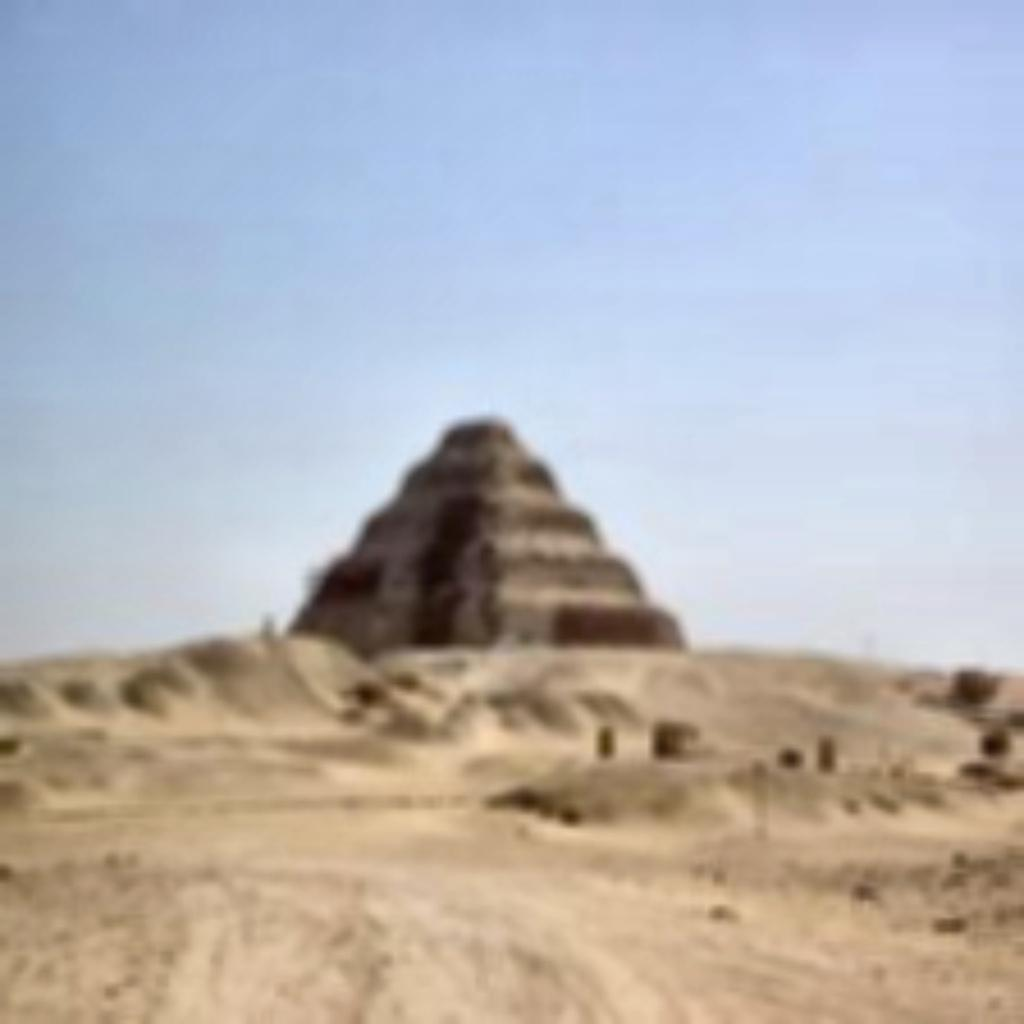Pyramid of Djoser: (279, 407, 690, 658)
